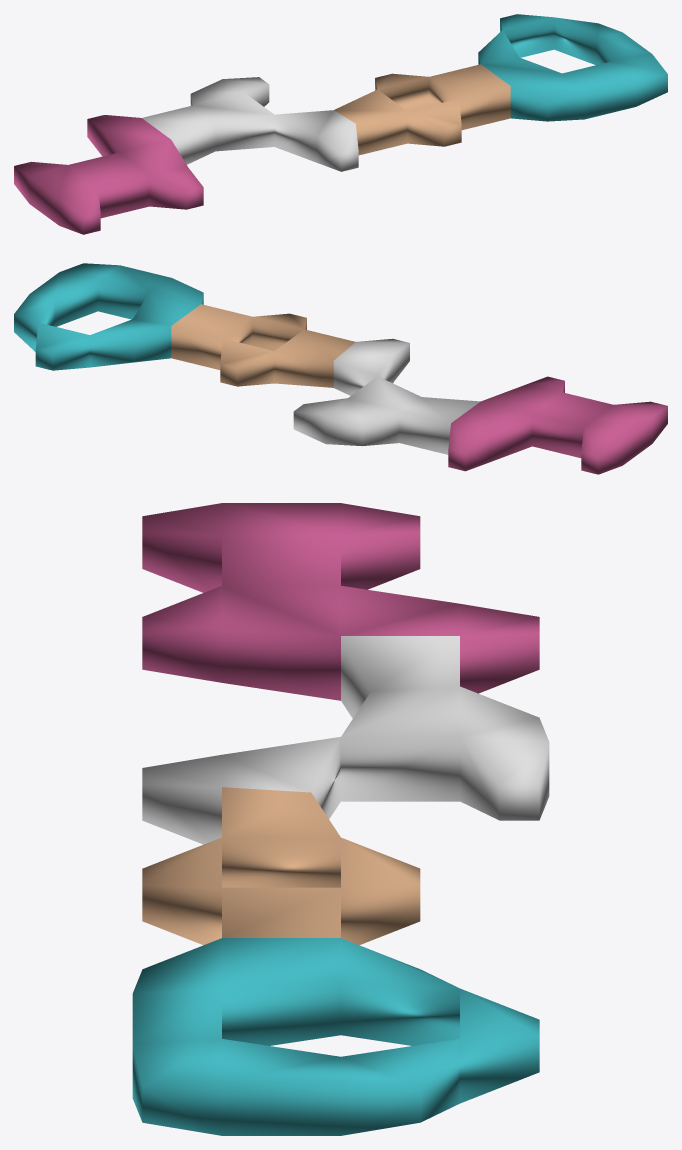
3 renders of one model, top to bottom at view 1: azimuth 30°, elevation 25°; view 2: azimuth 150°, elevation 25°; view 3: azimuth 270°, elevation 25°, orthographic. The views are drawn at different scales.
Size of the model in its own units: 0.575 by 0.03 by 0.175.
